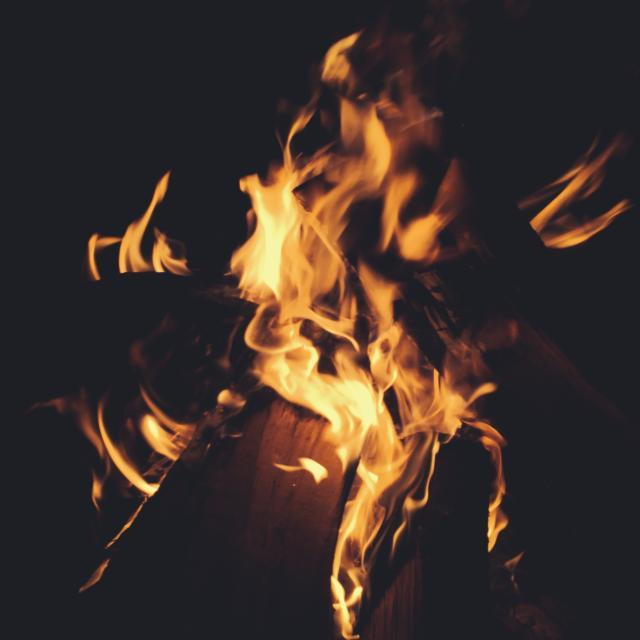Fire: (217, 28, 629, 640), (75, 388, 198, 548), (78, 169, 194, 281), (80, 558, 111, 593)
